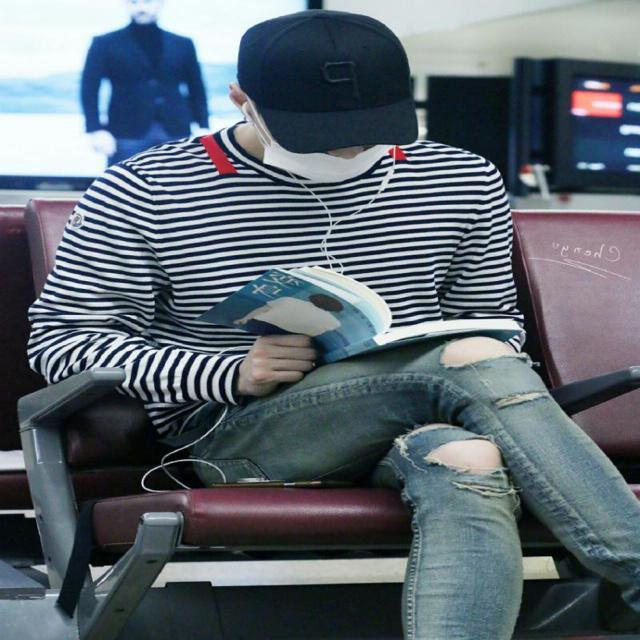face: (239, 72, 424, 185), (125, 0, 160, 24)
